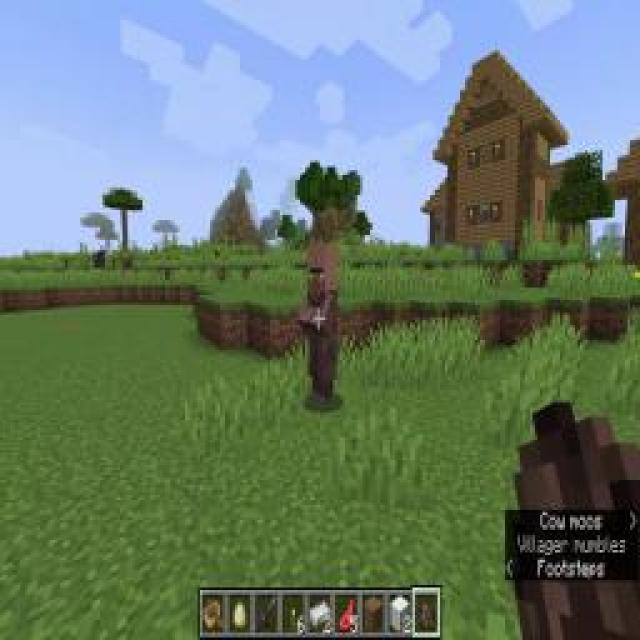Villager House: (296, 239, 344, 411)
